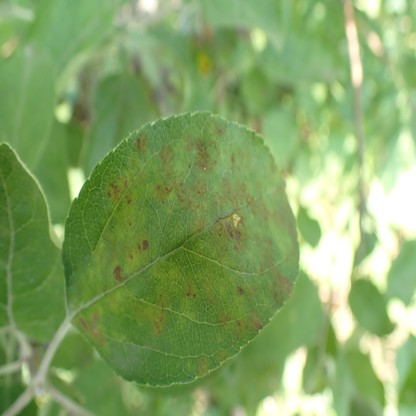scab: (74, 123, 298, 374)
